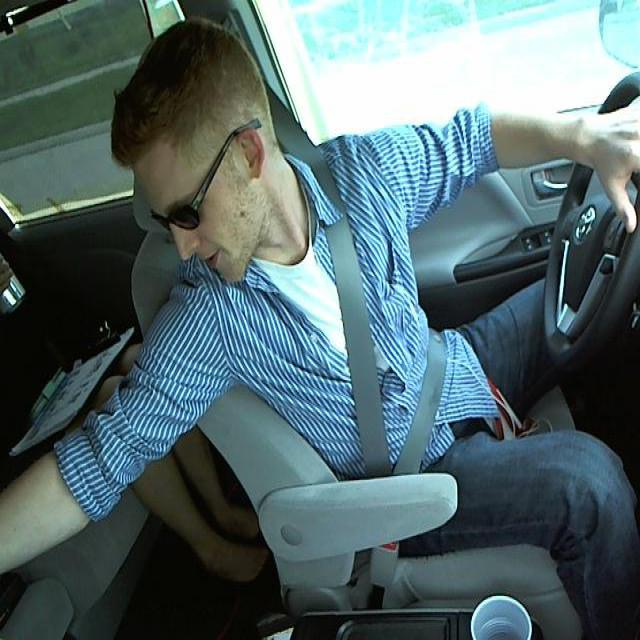seatbelt: (297, 171, 445, 501)
